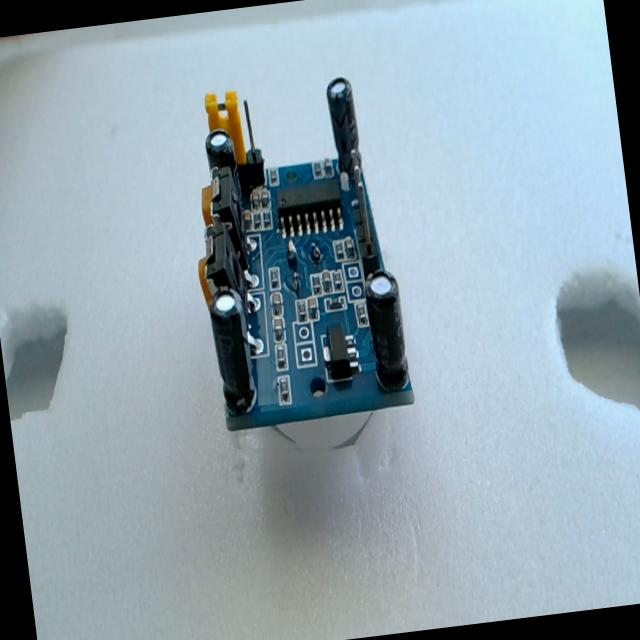Electrolytic capacitor: (206, 286, 257, 412), (362, 268, 412, 392), (323, 70, 363, 170), (203, 128, 243, 213)
IC: (274, 178, 344, 238)
pinheader: (344, 147, 378, 269)
